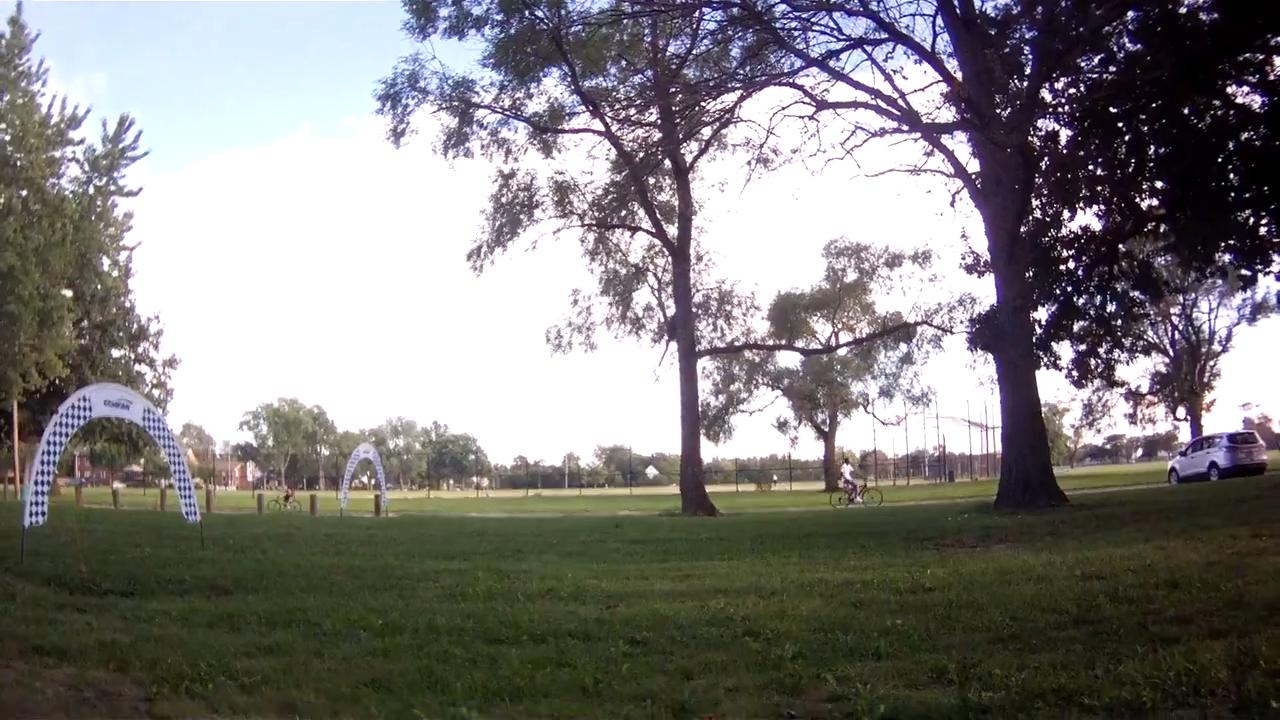gate: (24, 379, 209, 525)
